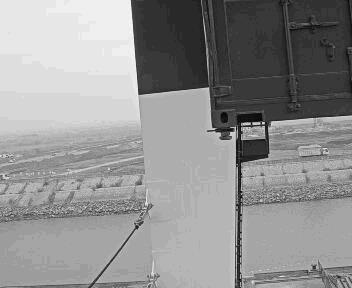twist_lock_1: (215, 134, 243, 158)
